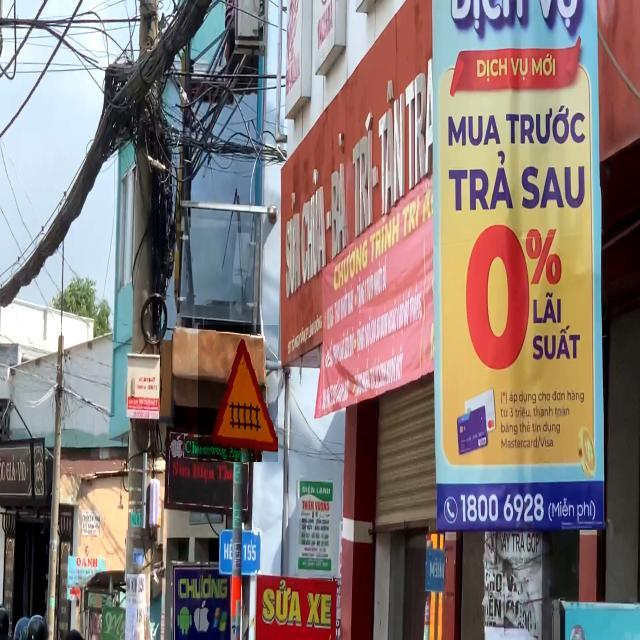W-210: (199, 325, 279, 462)
